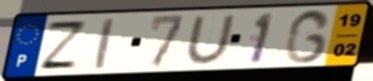1: (249, 11, 276, 65)
7: (148, 12, 187, 70)
G: (282, 7, 334, 66)
I: (93, 16, 117, 71)
U: (184, 13, 238, 66)
Z: (36, 20, 91, 71)
